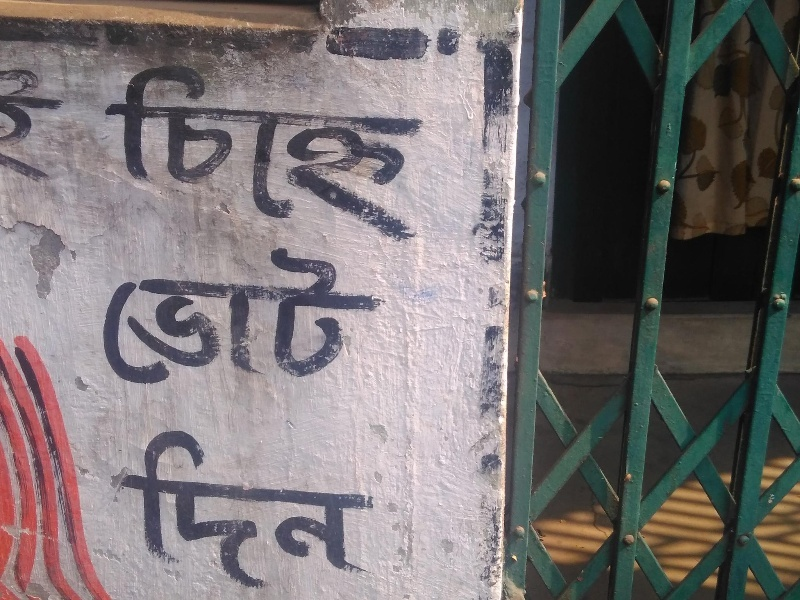text: (97, 52, 112, 248), (113, 52, 128, 248), (129, 52, 144, 248), (145, 52, 160, 248), (161, 52, 176, 248), (177, 52, 192, 248), (193, 52, 208, 248), (209, 52, 224, 248), (225, 52, 240, 248), (241, 52, 256, 248), (257, 52, 272, 248), (273, 52, 288, 248), (289, 52, 304, 248), (305, 52, 320, 248), (321, 52, 336, 248), (337, 52, 352, 248), (353, 52, 368, 248), (369, 52, 384, 248), (385, 52, 400, 248), (401, 52, 416, 248), (417, 52, 432, 248), (129, 413, 144, 593), (145, 413, 160, 593), (161, 413, 176, 593), (177, 413, 192, 593), (193, 413, 208, 593), (209, 413, 224, 593), (225, 413, 240, 593), (241, 413, 256, 593), (257, 413, 272, 593), (273, 413, 288, 593), (289, 413, 304, 593), (305, 413, 320, 593), (321, 413, 336, 593), (337, 413, 352, 593), (353, 413, 368, 593), (114, 413, 128, 593), (113, 241, 128, 388), (129, 241, 144, 388), (145, 241, 160, 388), (161, 241, 176, 388), (177, 241, 192, 388), (193, 241, 208, 388), (209, 241, 224, 388), (225, 241, 240, 388), (241, 241, 256, 388), (257, 241, 272, 388), (273, 241, 288, 388), (289, 241, 304, 388), (305, 241, 320, 388), (321, 241, 336, 388), (337, 241, 352, 388), (353, 241, 368, 388), (369, 241, 384, 388), (1, 60, 16, 195), (17, 60, 32, 195), (33, 60, 48, 195), (49, 60, 64, 195), (65, 60, 80, 195), (369, 413, 380, 593), (107, 241, 112, 388), (385, 241, 390, 388), (81, 60, 84, 195), (433, 52, 434, 248)
